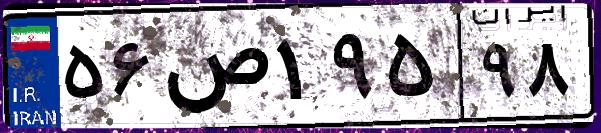1: (270, 28, 330, 110)
5: (385, 28, 445, 110), (57, 26, 110, 100)
6: (110, 28, 158, 98)
8: (525, 38, 570, 115)
9: (330, 28, 385, 110), (475, 38, 525, 113)
ص: (158, 20, 270, 120)
